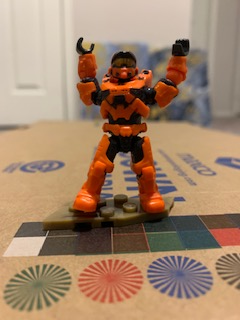spartan: (66, 36, 191, 218)
up: (71, 37, 190, 122)
